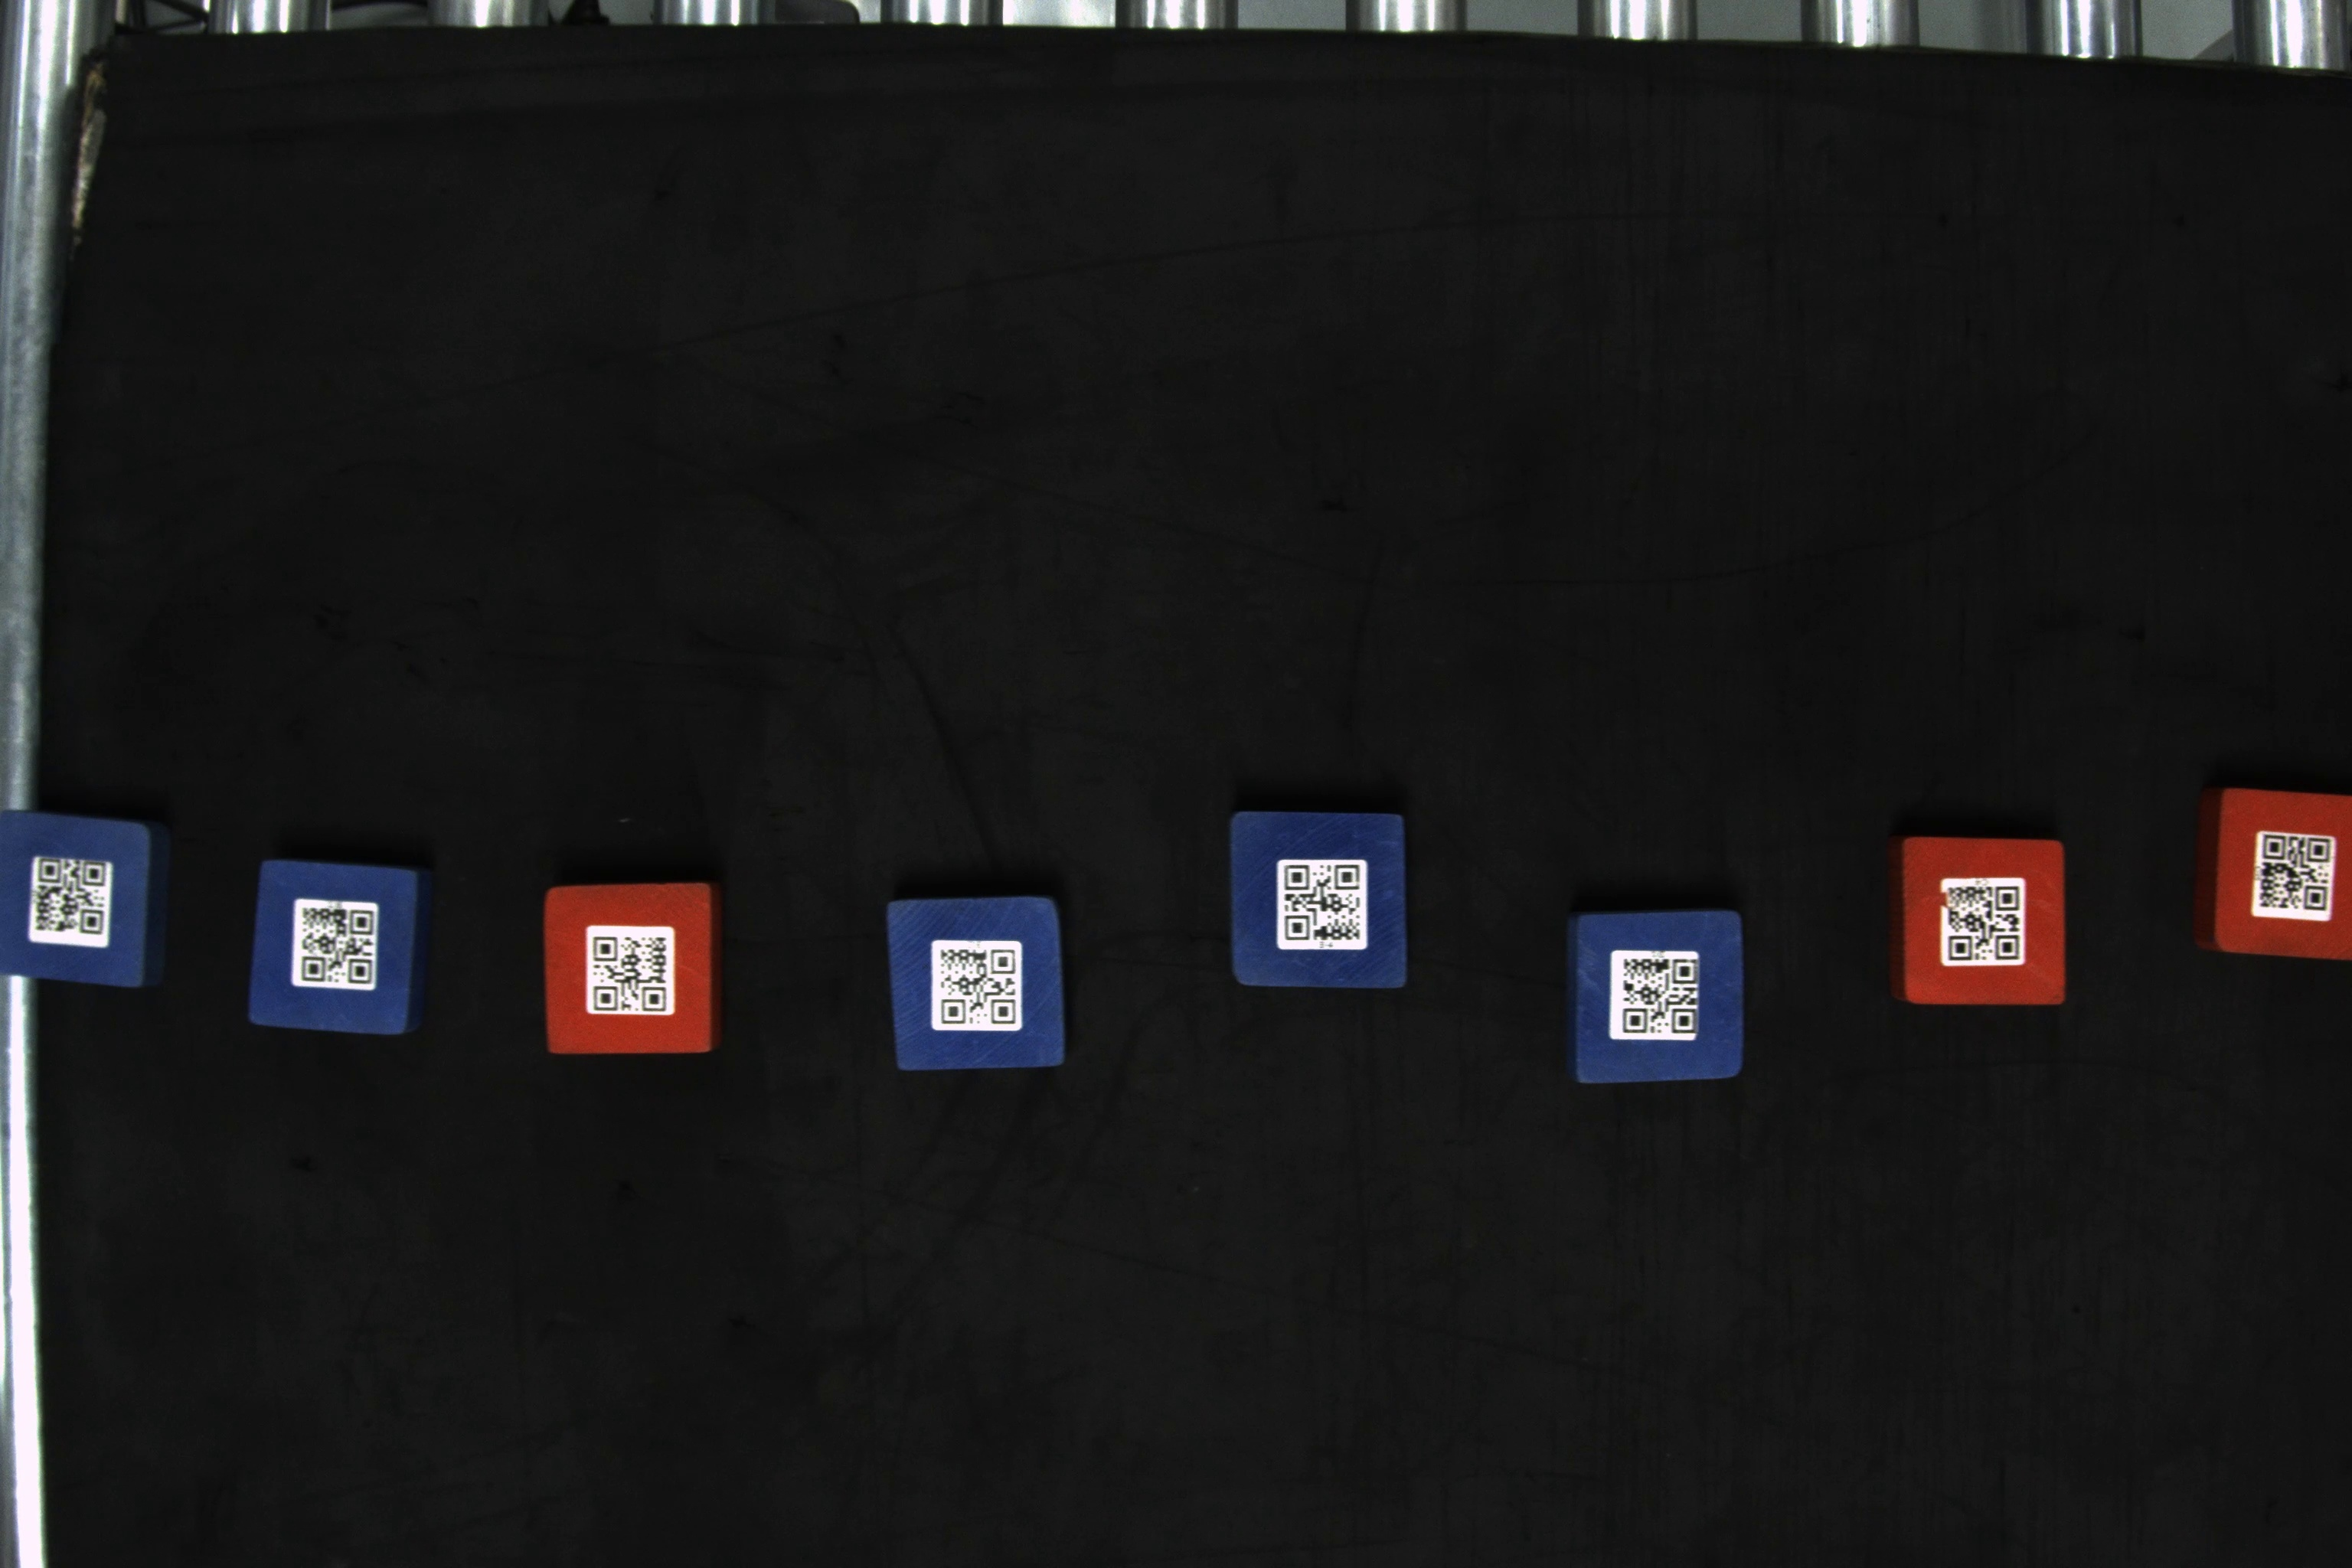wood: (1227, 803, 1421, 996), (880, 887, 1076, 1073), (541, 877, 735, 1062), (1883, 826, 2070, 1011), (1561, 906, 1752, 1083), (247, 859, 427, 1041), (3, 803, 171, 992), (2193, 782, 2352, 962)
